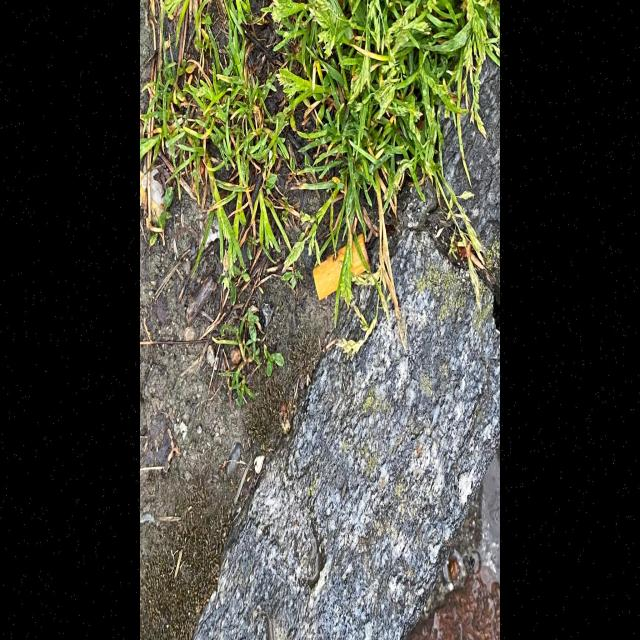other waste: (312, 230, 372, 301)
